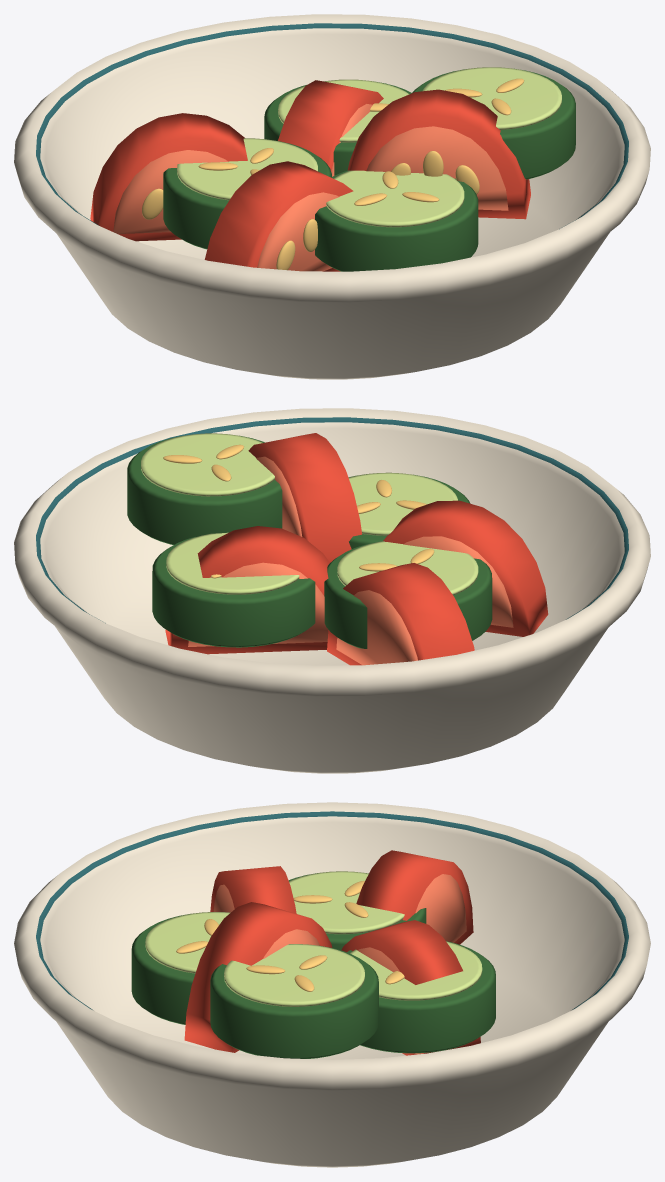
The model's file is dish-salad.obj.
3 views of the same model, one above another, from view 1: azimuth 30°, elevation 25°; view 2: azimuth 150°, elevation 25°; view 3: azimuth 270°, elevation 25° (orthographic).
Visible parts, largest first — view 1: dish-salad_ivory, dish-salad_tomato, dish-salad_cucumber, dish-salad_cucumberFlesh, dish-salad_tomatoFlesh, dish-salad_seed, dish-salad_teal; view 2: dish-salad_ivory, dish-salad_tomato, dish-salad_cucumber, dish-salad_cucumberFlesh, dish-salad_tomatoFlesh, dish-salad_teal, dish-salad_seed; view 3: dish-salad_ivory, dish-salad_cucumber, dish-salad_tomato, dish-salad_cucumberFlesh, dish-salad_teal, dish-salad_tomatoFlesh, dish-salad_seed.
Part boxes in pixels (x1,y1,x2,y2): dish-salad_ivory: (14, 14, 650, 379); dish-salad_tomato: (90, 80, 530, 271); dish-salad_cucumber: (163, 68, 575, 271); dish-salad_cucumberFlesh: (177, 67, 561, 227); dish-salad_tomatoFlesh: (113, 104, 508, 271); dish-salad_seed: (142, 78, 524, 270); dish-salad_teal: (36, 23, 628, 229); dish-salad_ivory: (14, 408, 650, 773); dish-salad_tomato: (165, 433, 548, 665); dish-salad_cucumber: (127, 435, 492, 648); dish-salad_cucumberFlesh: (141, 433, 478, 595); dish-salad_tomatoFlesh: (188, 456, 513, 665); dish-salad_teal: (36, 417, 628, 623); dish-salad_seed: (163, 444, 434, 578); dish-salad_ivory: (14, 802, 650, 1167); dish-salad_cucumber: (131, 873, 495, 1058); dish-salad_tomato: (184, 850, 480, 1055); dish-salad_cucumberFlesh: (145, 871, 482, 1006); dish-salad_teal: (36, 811, 628, 1009); dish-salad_tomatoFlesh: (213, 874, 466, 1054); dish-salad_seed: (176, 881, 404, 991).
Bounding box in the file's own units: 0.324 × 0.1163 × 0.324.
